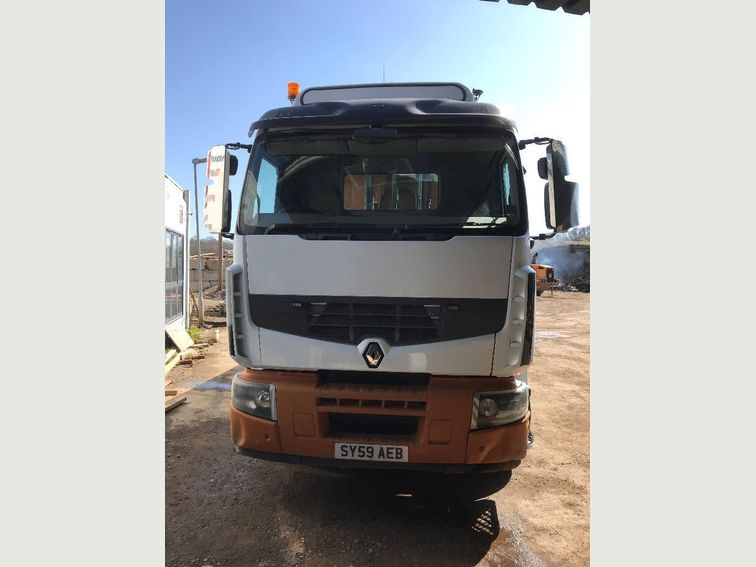Semi: (204, 81, 577, 500)
